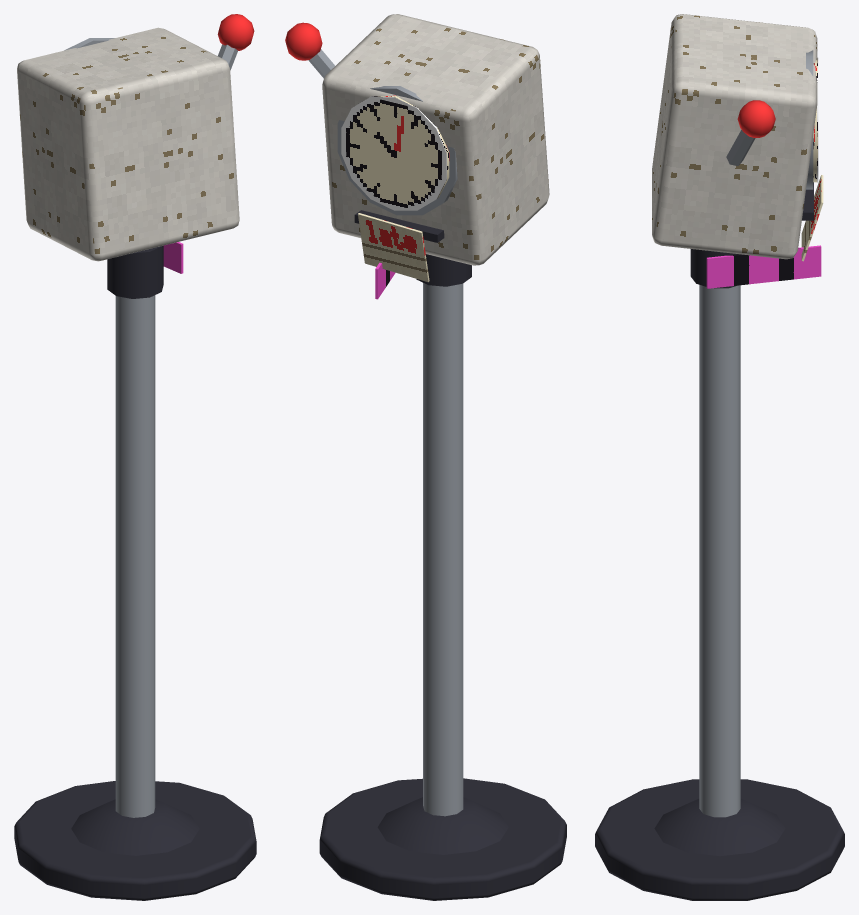
Rendered from s_punchpost.glb.
The picture shows the model from 3 angles, left to right: view 1: azimuth 30°, elevation 25°; view 2: azimuth 150°, elevation 25°; view 3: azimuth 270°, elevation 25°; orthographic projection. The views are drawn at different scales.
Visible parts, largest first — view 1: s_punchpost_mesh; view 2: s_punchpost_mesh; view 3: s_punchpost_mesh.
Boxes of the visible parts, left/top/right/bottom form: s_punchpost_mesh: left=14, top=14, right=256, bottom=900; s_punchpost_mesh: left=285, top=14, right=566, bottom=900; s_punchpost_mesh: left=595, top=14, right=844, bottom=900.
Size of what is drawn, in the model's own units: 0.3805 by 1.22 by 0.34.
Materials: 5 (5 with a texture image).
